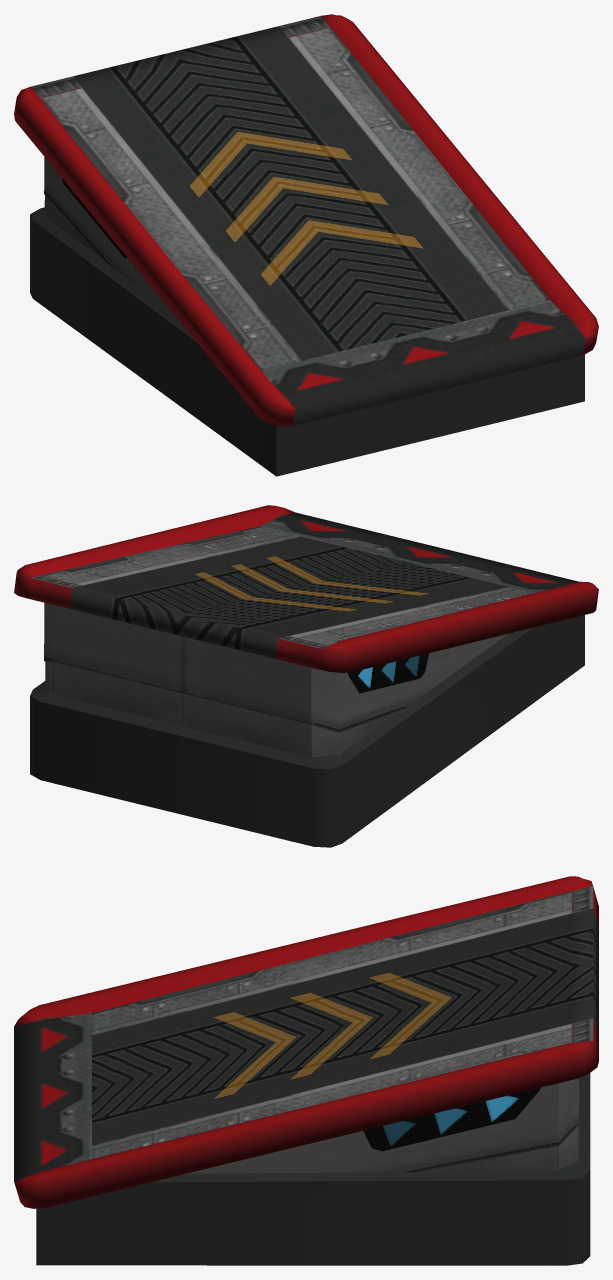
The model's file is JumpPanel_15S.fbx.
3 views of the same model, one above another, from view 1: azimuth 30°, elevation 25°; view 2: azimuth 150°, elevation 25°; view 3: azimuth 270°, elevation 25° (orthographic). The views are drawn at different scales.
Parts seen in each view (by area): view 1: cmn_obj_jumppanel15S_HD; view 2: cmn_obj_jumppanel15S_HD; view 3: cmn_obj_jumppanel15S_HD.
Part boxes in pixels (bbox=[...]): cmn_obj_jumppanel15S_HD: bbox=[14, 14, 598, 476]; cmn_obj_jumppanel15S_HD: bbox=[14, 505, 598, 847]; cmn_obj_jumppanel15S_HD: bbox=[14, 876, 598, 1265].
Bounding box in the file's own units: 120 × 166 × 69.4.
5 materials, 5 textured.
